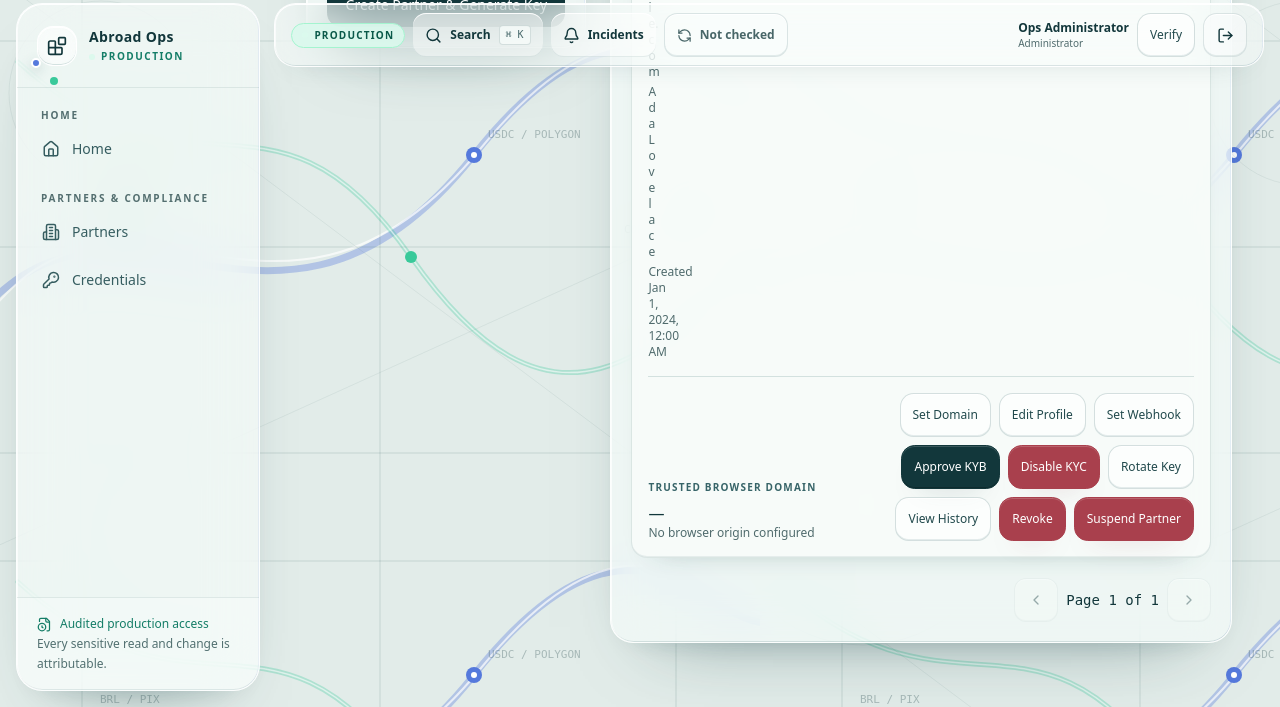
Test: PartnerApiKeys page › toggles the partner KYC requirement and reflects the new state
This screenshot has width=1280, height=707.
(page scrolled)
Step 1. Click the button "Disable KYC" → point(1054, 467), box x1=1008 y1=445 x2=1100 y2=489
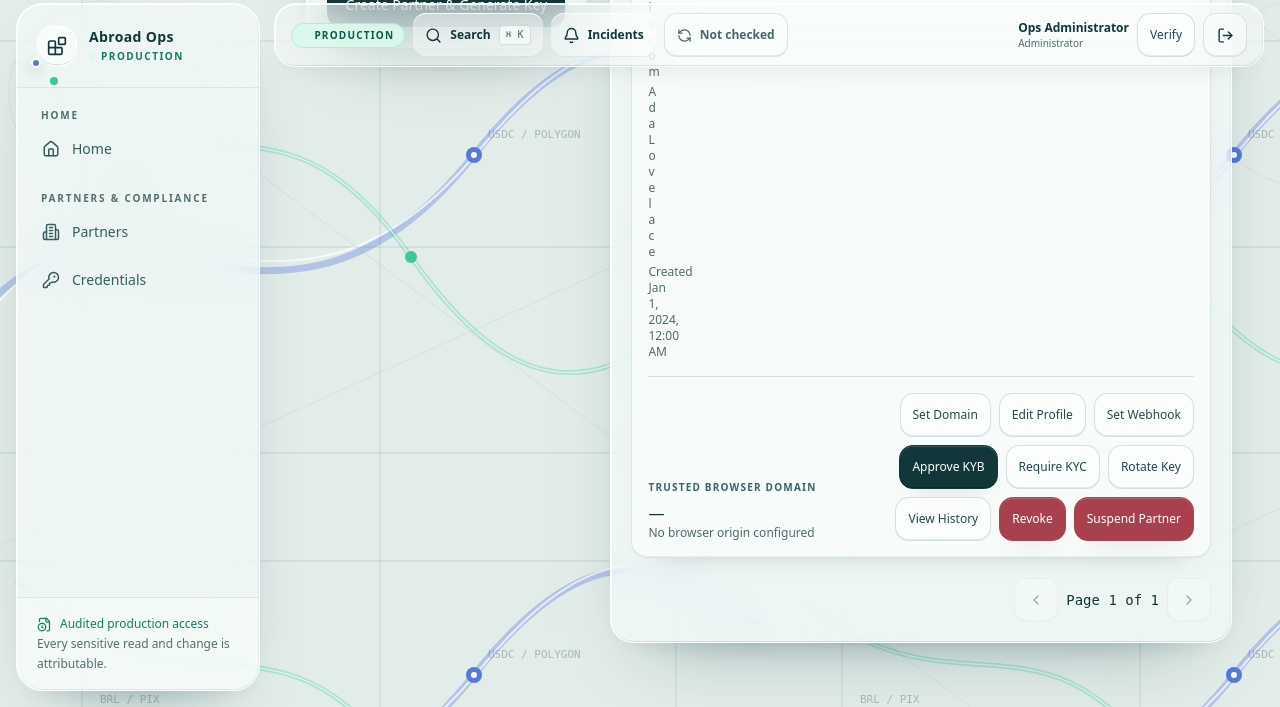
Now the button "Require KYC" is shown, box x1=1006 y1=445 x2=1100 y2=489
